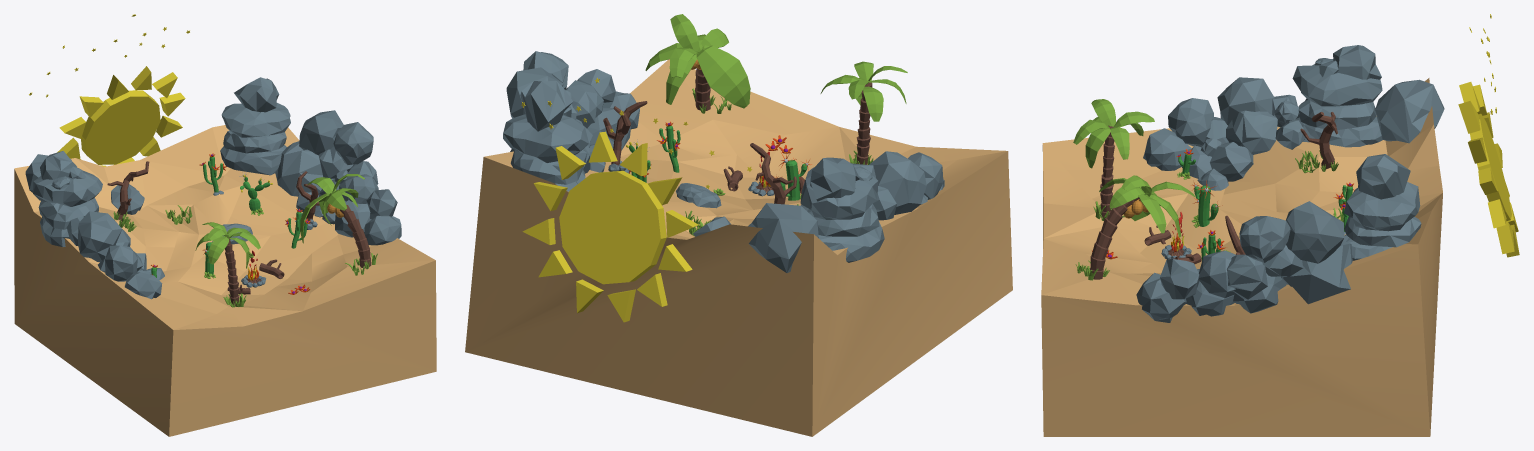
3 views of the same model, side by side, from view 1: azimuth 30°, elevation 25°; view 2: azimuth 150°, elevation 25°; view 3: azimuth 270°, elevation 25° (orthographic). The views are drawn at different scales.
Parts seen in each view (by area): view 1: node_MeshObject1322901504-PolyPaper21, node_MeshObject-1255828480-PolyPaper10, node_MeshObject-1827907584-PolyPaper14, node_MeshObject169995264-PolyPaper10, node_MeshObject742074368-PolyPaper12, node_MeshObject1314153472-PolyPaper9, node_MeshObject-111670272-PolyPaper15; view 2: node_MeshObject1322901504-PolyPaper21, node_MeshObject-1255828480-PolyPaper10, node_MeshObject169995264-PolyPaper10, node_MeshObject-1827907584-PolyPaper14, node_MeshObject742074368-PolyPaper12, node_MeshObject1314153472-PolyPaper9; view 3: node_MeshObject1322901504-PolyPaper21, node_MeshObject-1255828480-PolyPaper10, node_MeshObject-1827907584-PolyPaper14, node_MeshObject742074368-PolyPaper12, node_MeshObject169995264-PolyPaper10, node_MeshObject1314153472-PolyPaper9, node_MeshObject-111670272-PolyPaper15.
Boxes of the visible parts, left/top/right/bottom form: node_MeshObject1322901504-PolyPaper21: left=14, top=125, right=436, bottom=436; node_MeshObject-1255828480-PolyPaper10: left=25, top=14, right=401, bottom=307; node_MeshObject-1827907584-PolyPaper14: left=78, top=110, right=371, bottom=306; node_MeshObject169995264-PolyPaper10: left=81, top=72, right=185, bottom=164; node_MeshObject742074368-PolyPaper12: left=57, top=66, right=284, bottom=299; node_MeshObject1314153472-PolyPaper9: left=107, top=161, right=364, bottom=227; node_MeshObject-111670272-PolyPaper15: left=121, top=178, right=377, bottom=306; node_MeshObject1322901504-PolyPaper21: left=465, top=45, right=1012, bottom=436; node_MeshObject-1255828480-PolyPaper10: left=503, top=51, right=896, bottom=272; node_MeshObject169995264-PolyPaper10: left=522, top=146, right=762, bottom=284; node_MeshObject-1827907584-PolyPaper14: left=506, top=28, right=943, bottom=214; node_MeshObject742074368-PolyPaper12: left=576, top=131, right=944, bottom=322; node_MeshObject1314153472-PolyPaper9: left=670, top=14, right=796, bottom=235; node_MeshObject1322901504-PolyPaper21: left=1041, top=58, right=1442, bottom=436; node_MeshObject-1255828480-PolyPaper10: left=1083, top=14, right=1496, bottom=322; node_MeshObject-1827907584-PolyPaper14: left=1073, top=77, right=1354, bottom=316; node_MeshObject742074368-PolyPaper12: left=1143, top=82, right=1519, bottom=264; node_MeshObject169995264-PolyPaper10: left=1181, top=113, right=1514, bottom=254; node_MeshObject1314153472-PolyPaper9: left=1121, top=112, right=1343, bottom=221; node_MeshObject-111670272-PolyPaper15: left=1085, top=124, right=1337, bottom=280.
Bounding box in the file's own units: 3.77 × 3.08 × 4.13.
